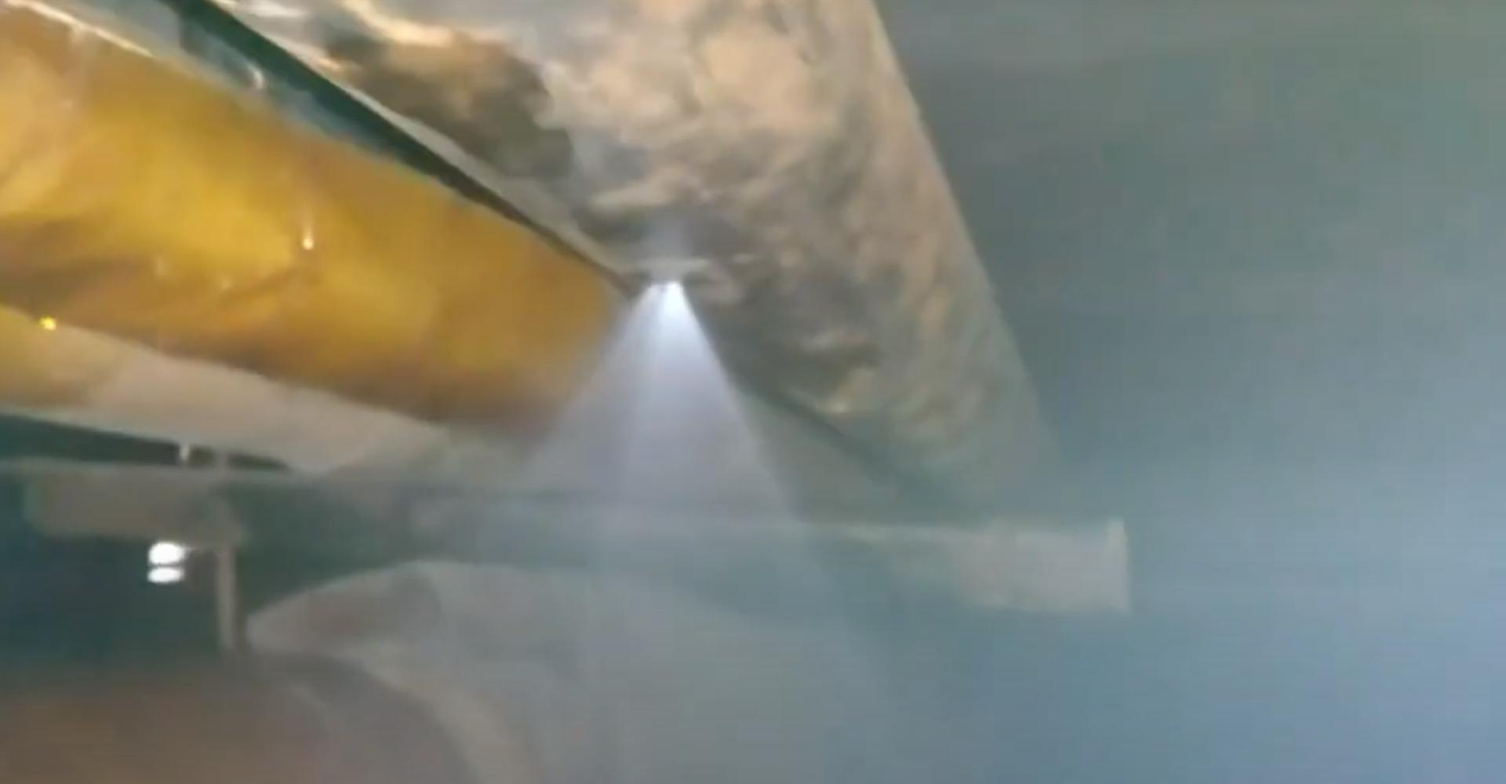pipe burst: (422, 264, 889, 756)
